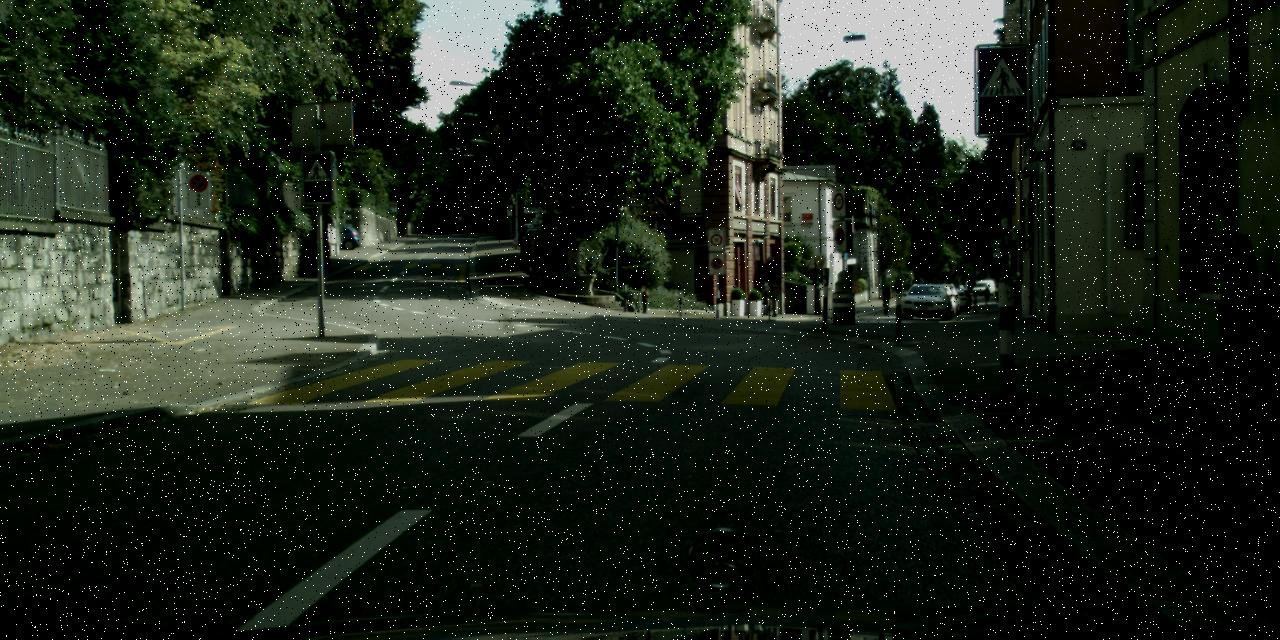ped: (760, 256, 781, 310), (880, 287, 890, 312), (981, 285, 990, 305)
